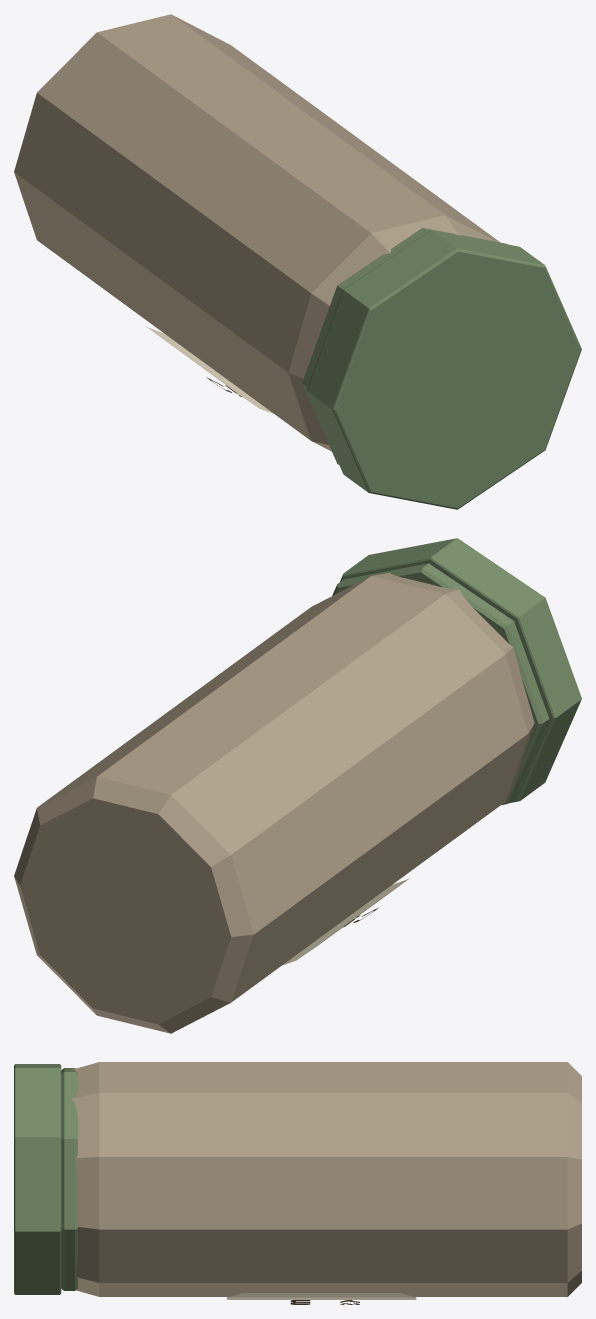
File: cinnamon_sticks.glb
3 views of the same model, one above another, from view 1: azimuth 30°, elevation 25°; view 2: azimuth 150°, elevation 25°; view 3: azimuth 270°, elevation 25° (orthographic). The views are drawn at different scales.
Parts seen in each view (by area): view 1: cinnamon_sticks; view 2: cinnamon_sticks; view 3: cinnamon_sticks.
Boxes of the visible parts, box(x1,y1,x2,y2) form: cinnamon_sticks: box(14, 14, 581, 509); cinnamon_sticks: box(14, 538, 581, 1033); cinnamon_sticks: box(14, 1062, 581, 1304).
Bounding box in the file's own units: 0.052 × 0.0525 × 0.12.
